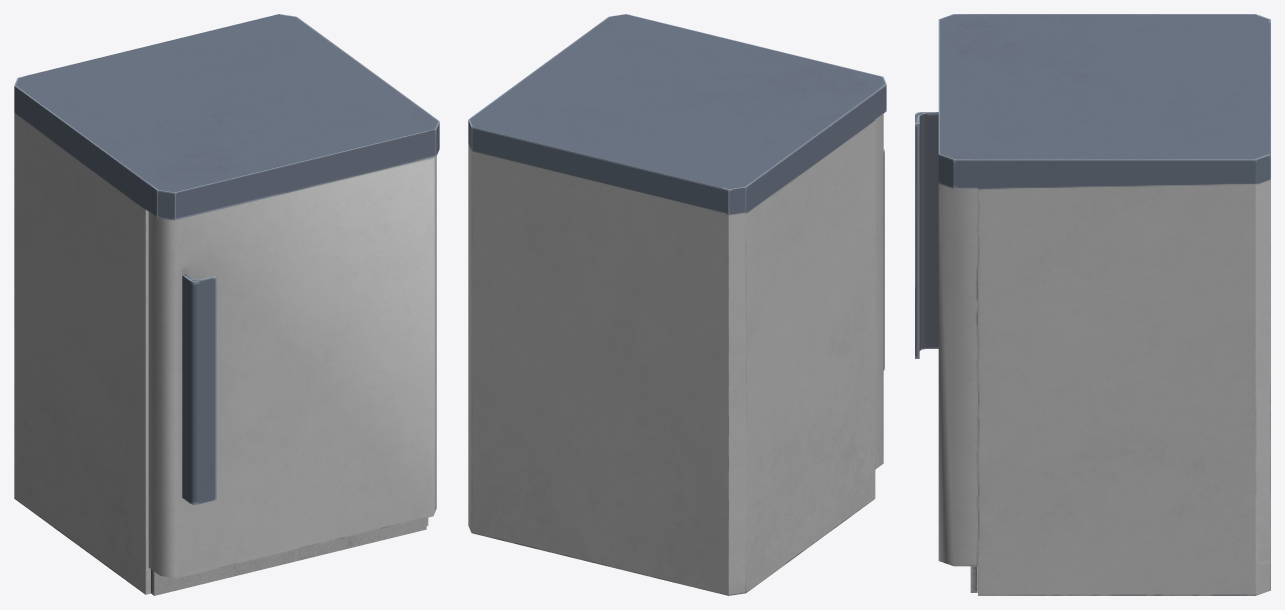
3 views of the same model, side by side, from view 1: azimuth 30°, elevation 25°; view 2: azimuth 150°, elevation 25°; view 3: azimuth 270°, elevation 25° (orthographic). The views are drawn at different scales.
Visible parts, largest first — view 1: 冰箱, 冰箱门; view 2: 冰箱, 冰箱门; view 3: 冰箱, 冰箱门.
Boxes of the visible parts, x1,y1,x2,y2 form: 冰箱: (14, 14, 439, 595); 冰箱门: (148, 156, 436, 578); 冰箱: (468, 14, 886, 595); 冰箱门: (875, 114, 884, 469); 冰箱: (938, 14, 1270, 595); 冰箱门: (915, 112, 977, 566).
Bounding box in the file's own units: 0.7602 × 1.06 × 0.7847.
Materials: 1 (1 with a texture image).
